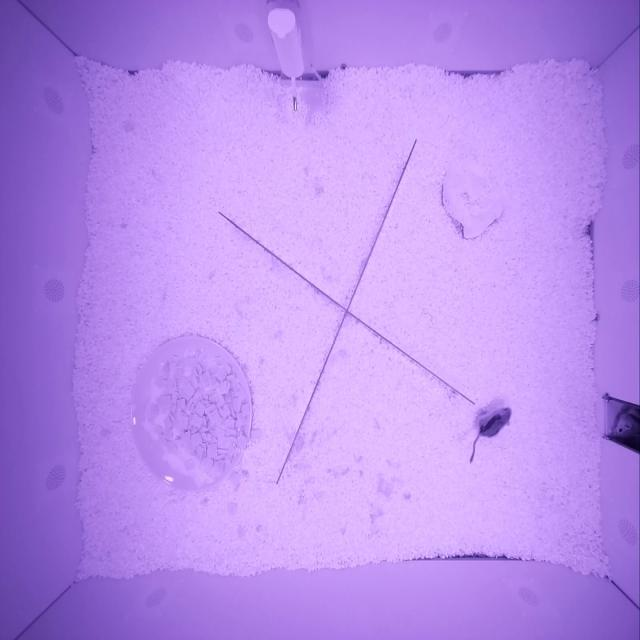pup_h_stripe: (614, 407, 640, 438)
pup_v_stripe: (478, 407, 511, 439)
